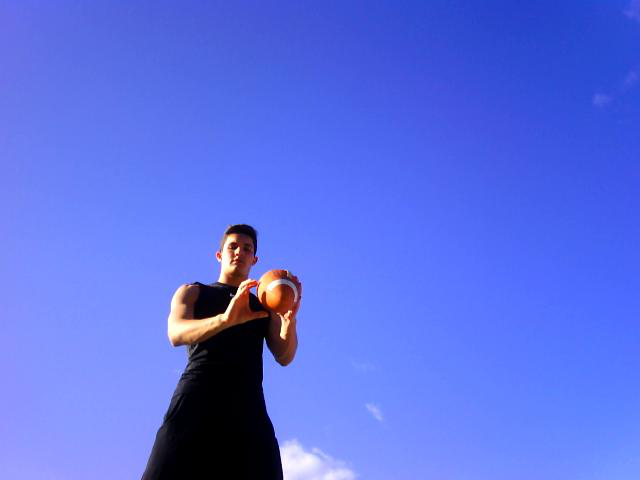footbal: (255, 266, 302, 314)
